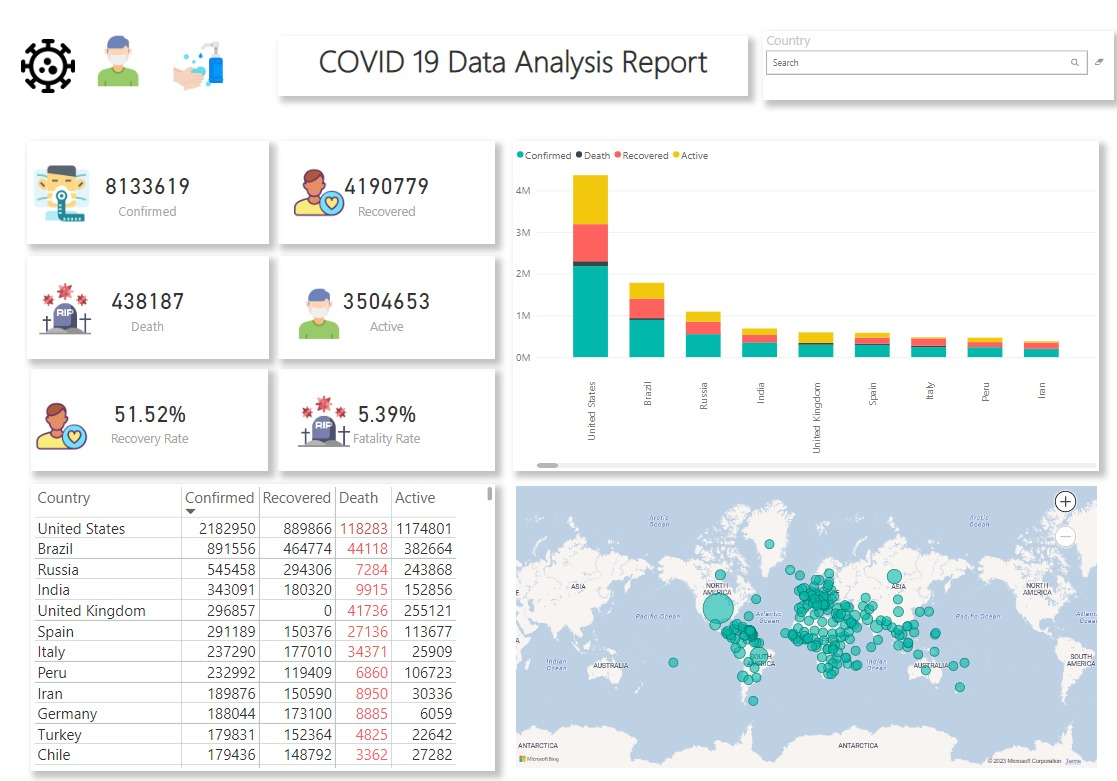

This screenshot's page, from the dashboard's own definition file:
{"tool":"powerbi","page":{"name":"DataAnalysis Covid","canvas":[1800,1300],"ordinal":0},"visuals":[{"type":"card","fields":{"Values":["Sum(countries.Recovered)"]},"box":[448.5,232.2,347.3,164.7],"z":0},{"type":"card","fields":{"Values":["Sum(countries.Death)"]},"box":[45.6,416.8,387,164.7],"z":1000},{"type":"image","box":[32,64,96,96],"z":2000},{"type":"image","box":[144,48,96,112],"z":3000},{"type":"image","box":[466.4,258,97.2,113.1],"z":4000},{"type":"image","box":[51.6,452.5,111.1,95.3],"z":5000},{"type":"image","box":[272,64,96,96],"z":6000},{"type":"textbox","box":[448,64,752,96],"z":7000},{"type":"card","fields":{"Values":["Sum(countries.Confirmed)"]},"box":[45.6,232.2,387,164.7],"z":8000},{"type":"image","box":[51.6,263.9,99.2,103.2],"z":9000},{"type":"card","fields":{"Values":["Sum(countries.Active)"]},"box":[448.5,416.8,347.3,164.7],"z":10000},{"type":"card","fields":{"Values":["countries.Recovery Rate"]},"box":[51.6,595.4,381,164.7],"z":11000},{"type":"card","fields":{"Values":["countries.Fatality Rate"]},"box":[448.5,595.4,347.3,164.7],"z":12000},{"type":"image","box":[466.4,631.1,111.1,95.3],"z":13000},{"type":"image","box":[466.4,452.5,95.3,113.1],"z":14000},{"type":"image","box":[53.6,631.1,97.2,113.1],"z":15000},{"type":"columnChart","fields":{"Category":["countries.Country"],"Y":["Sum(countries.Confirmed)","Sum(countries.Death)","Sum(countries.Recovered)","Sum(countries.Active)"]},"box":[823.6,232.2,938.7,527.9],"z":16000},{"type":"tableEx","fields":{"Values":["countries.Country","Sum(countries.Confirmed)","Sum(countries.Recovered)","Sum(countries.Death)","Sum(countries.Active)"]},"box":[51.6,779.9,744.2,460.4],"z":17000},{"type":"map","fields":{"Category":["countries.Country"],"Size":["Sum(countries.Confirmed)"]},"box":[823.6,779.9,938.7,460.4],"z":18000},{"type":"textFilter25A4896A83E0487089E2B90C9AE57C8A","fields":{"field":["countries.Country"]},"box":[1224.5,55.6,561.6,111.1],"z":19000}]}

Visuals, with their boxes on the page's 1800x1300 design canvas (x1, y1, x2, y2). These are canvas units, not pixel positions in the 1117x781 screenshot, which may show the page scaled, cropped or inside an application window:
card - Sum(countries.Recovered): pyautogui.locateOnScreen(448, 232, 796, 397)
card - Sum(countries.Death): pyautogui.locateOnScreen(46, 417, 433, 582)
image: pyautogui.locateOnScreen(32, 64, 128, 160)
image: pyautogui.locateOnScreen(144, 48, 240, 160)
image: pyautogui.locateOnScreen(466, 258, 564, 371)
image: pyautogui.locateOnScreen(52, 452, 163, 548)
image: pyautogui.locateOnScreen(272, 64, 368, 160)
textbox: pyautogui.locateOnScreen(448, 64, 1200, 160)
card - Sum(countries.Confirmed): pyautogui.locateOnScreen(46, 232, 433, 397)
image: pyautogui.locateOnScreen(52, 264, 151, 367)
card - Sum(countries.Active): pyautogui.locateOnScreen(448, 417, 796, 582)
card - countries.Recovery Rate: pyautogui.locateOnScreen(52, 595, 433, 760)
card - countries.Fatality Rate: pyautogui.locateOnScreen(448, 595, 796, 760)
image: pyautogui.locateOnScreen(466, 631, 578, 726)
image: pyautogui.locateOnScreen(466, 452, 562, 566)
image: pyautogui.locateOnScreen(54, 631, 151, 744)
columnChart - countries.Country x Sum(countries.Confirmed): pyautogui.locateOnScreen(824, 232, 1762, 760)
tableEx - countries.Country x Sum(countries.Confirmed): pyautogui.locateOnScreen(52, 780, 796, 1240)
map - countries.Country x Sum(countries.Confirmed): pyautogui.locateOnScreen(824, 780, 1762, 1240)
textFilter25A4896A83E0487089E2B90C9AE57C8A - countries.Country: pyautogui.locateOnScreen(1224, 56, 1786, 167)
